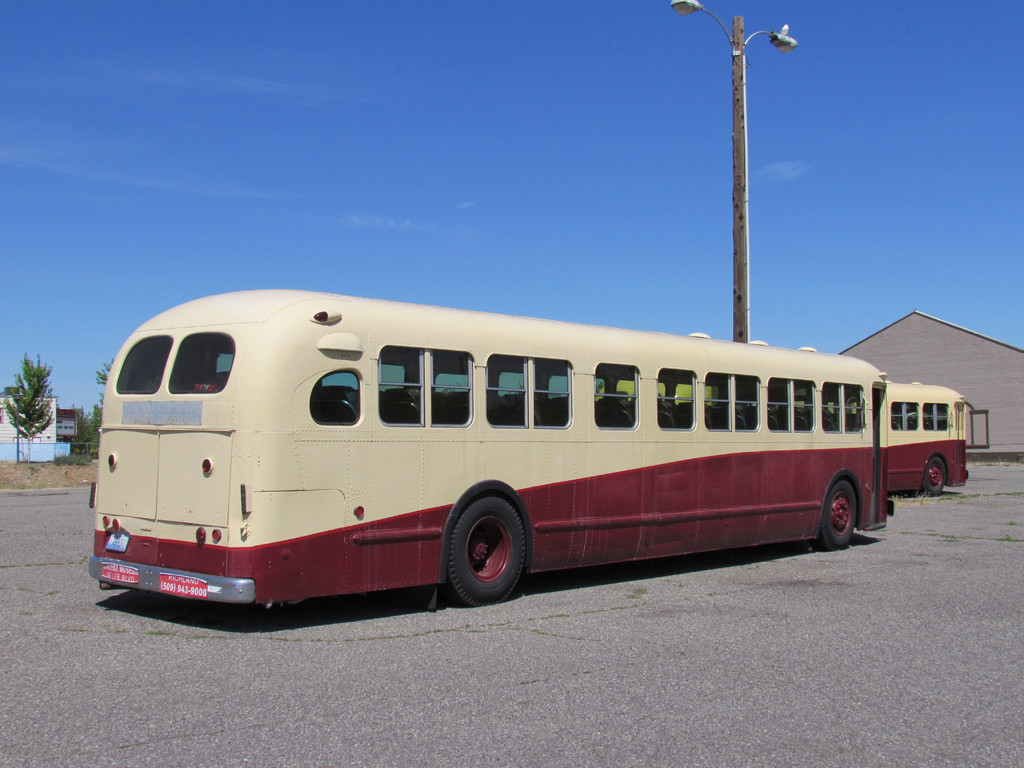Bus: (88, 289, 893, 606), (885, 381, 968, 497)
